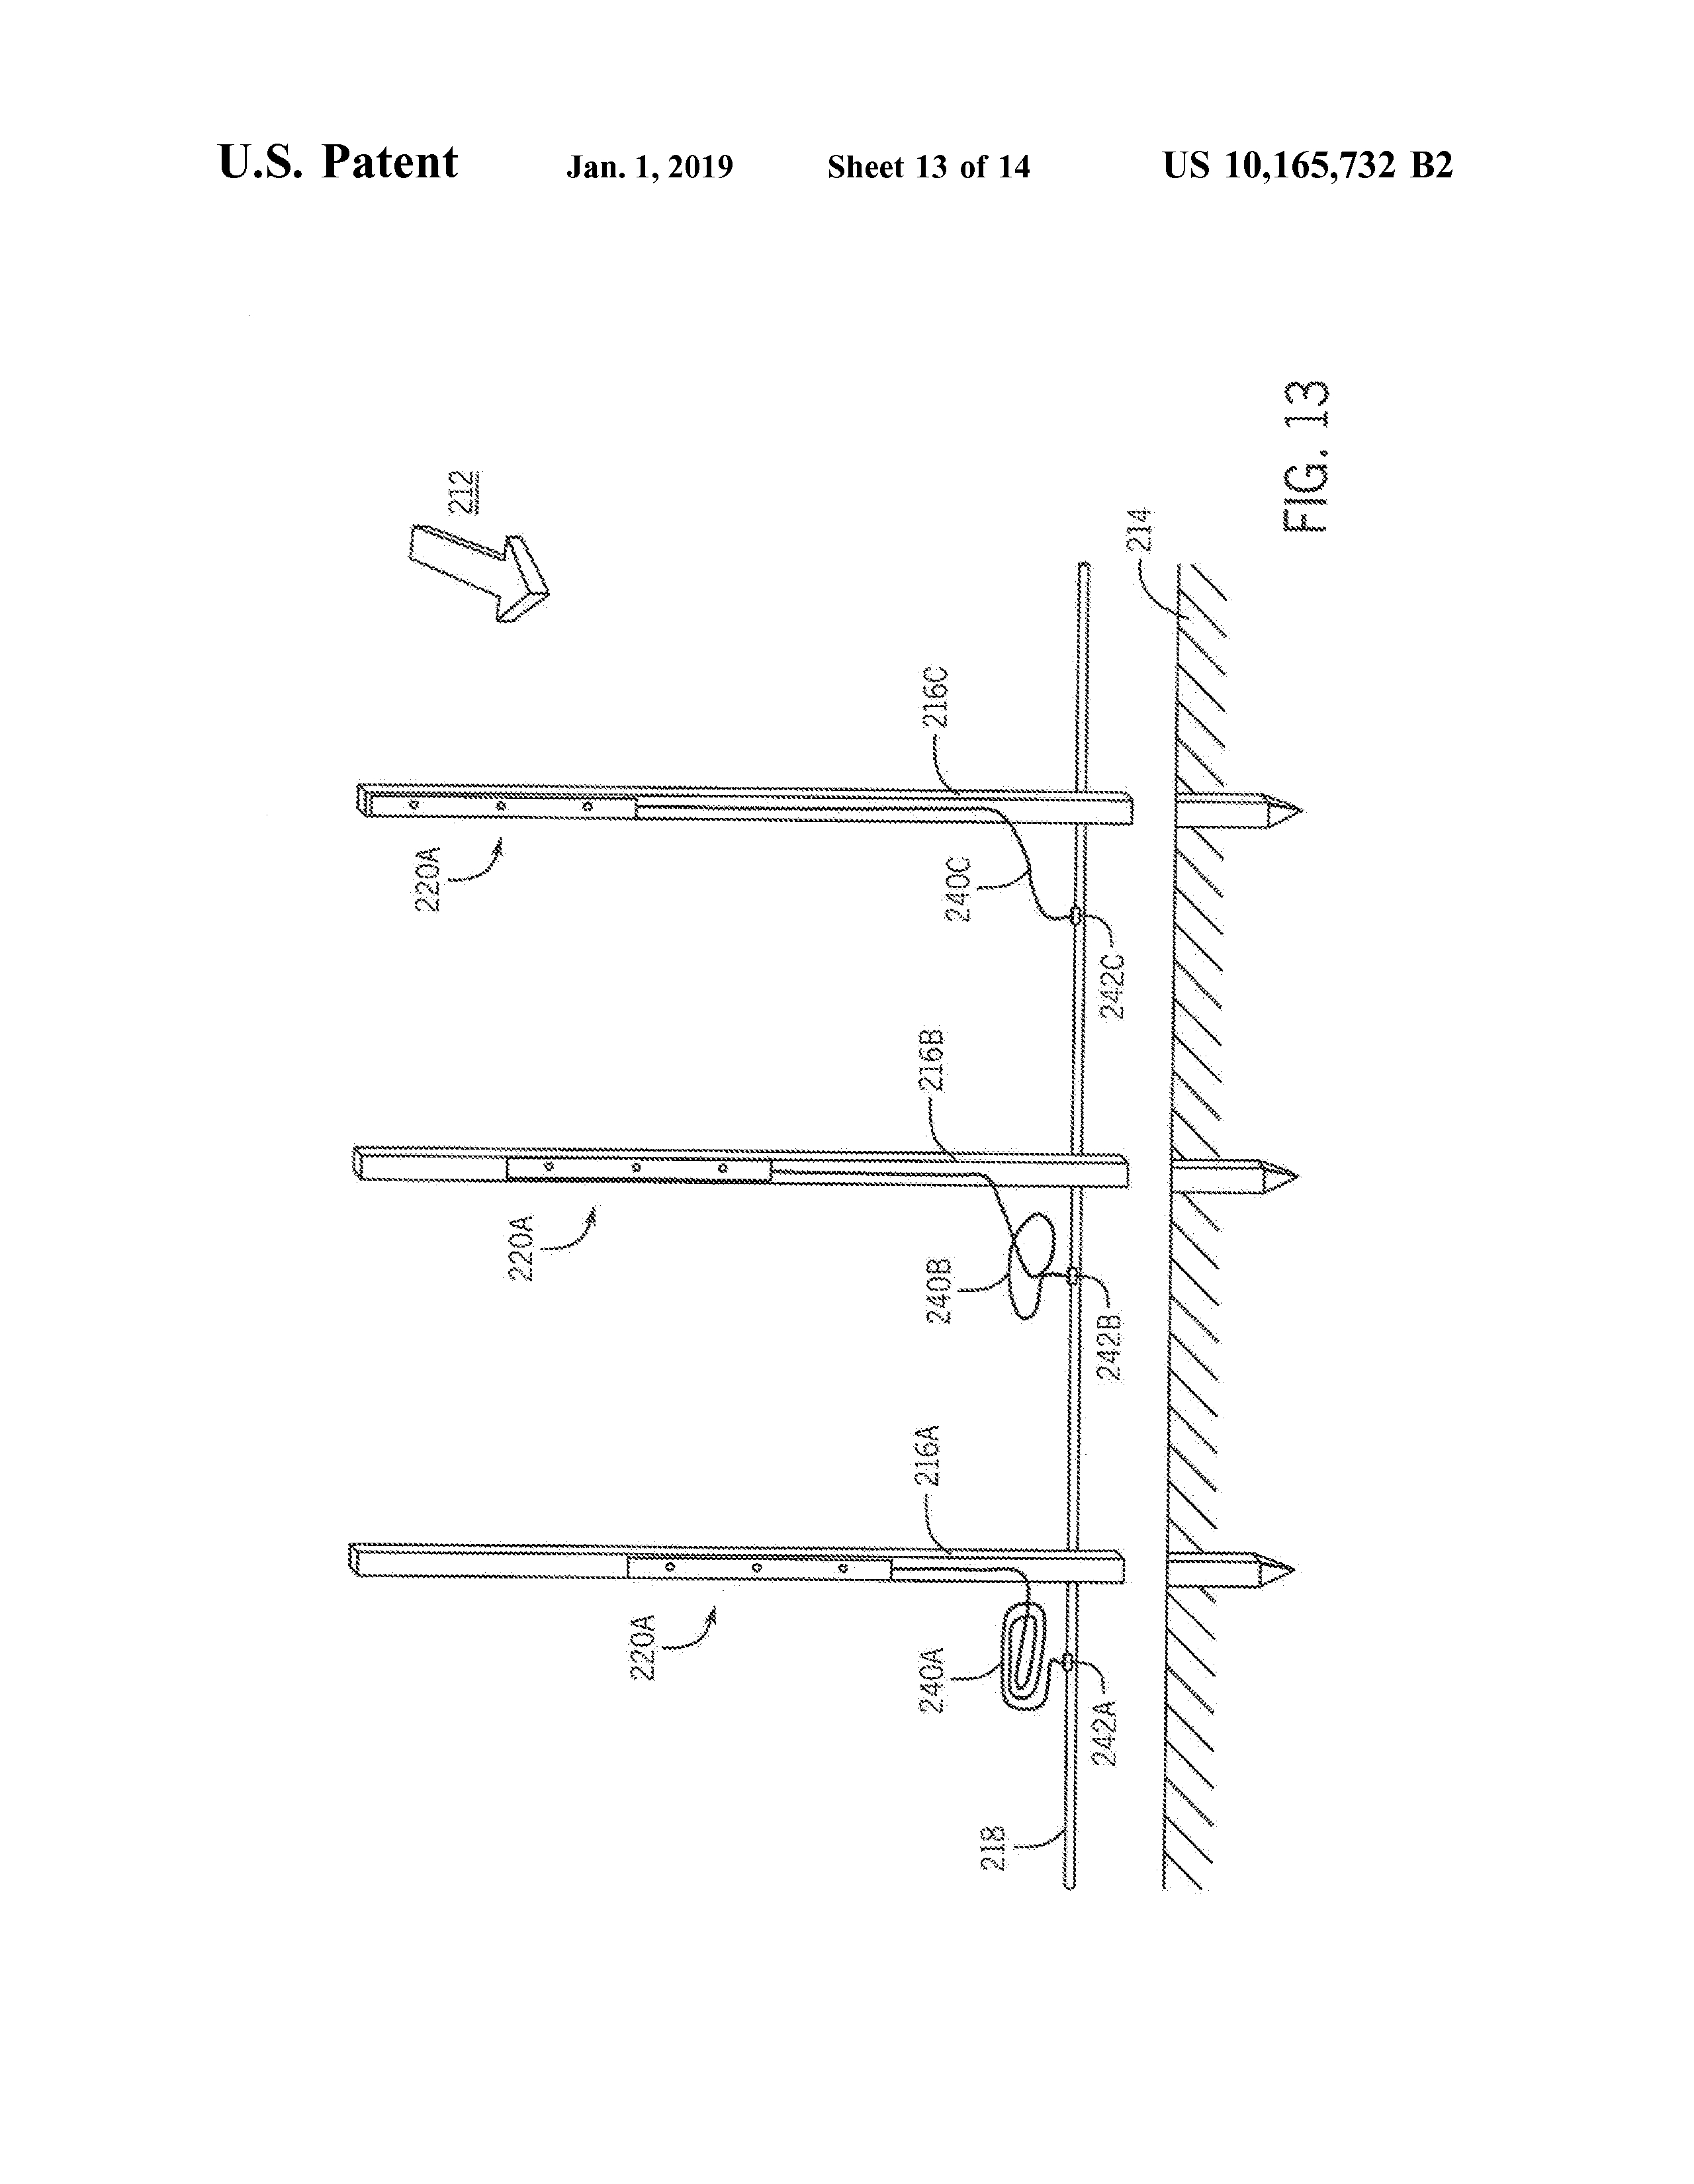patent image: (330, 345, 1369, 1945)
